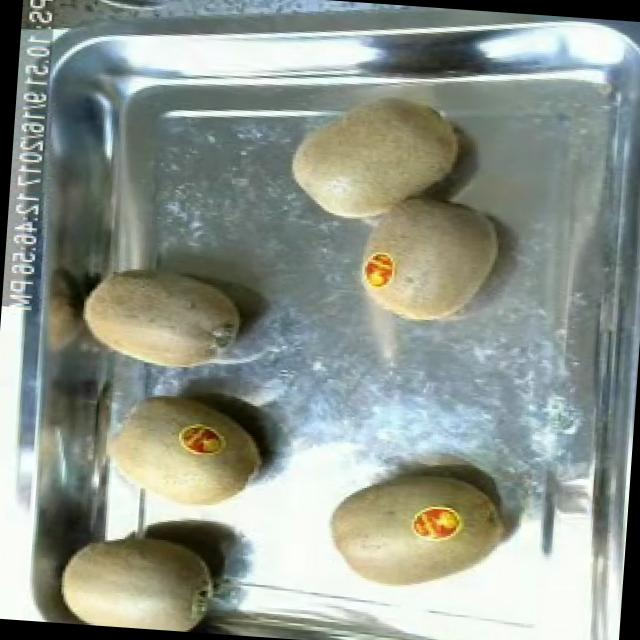Fruit: (277, 77, 478, 238), (313, 454, 516, 606), (344, 176, 510, 337), (95, 382, 272, 526), (68, 255, 254, 383), (43, 516, 231, 634)
